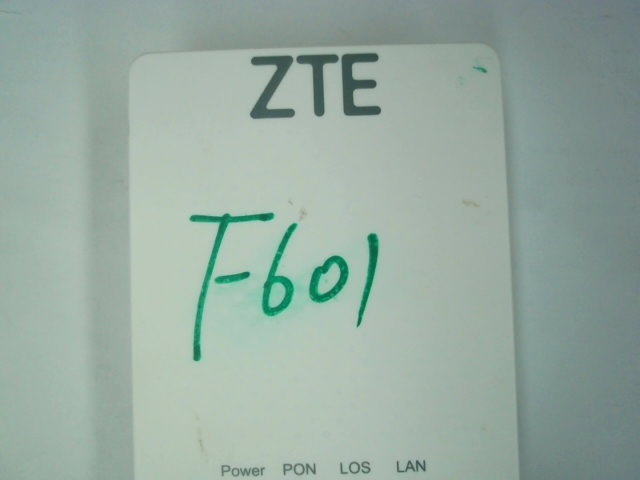AN_ZTE: (227, 50, 399, 127)
